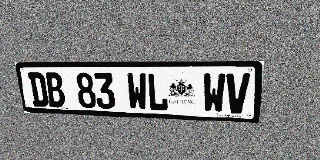3: (94, 73, 115, 109)
8: (75, 73, 97, 108)
B: (44, 73, 66, 107)
D: (27, 73, 49, 107)
L: (147, 73, 168, 111)
V: (225, 73, 250, 114)
W: (203, 73, 226, 113), (126, 73, 148, 110)
